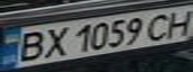0: (90, 19, 112, 51)
1: (69, 21, 93, 53)
5: (106, 17, 130, 48)
9: (121, 15, 151, 45)
B: (9, 28, 51, 63)
C: (142, 11, 178, 42)
H: (160, 7, 193, 38)
X: (36, 25, 72, 60)
